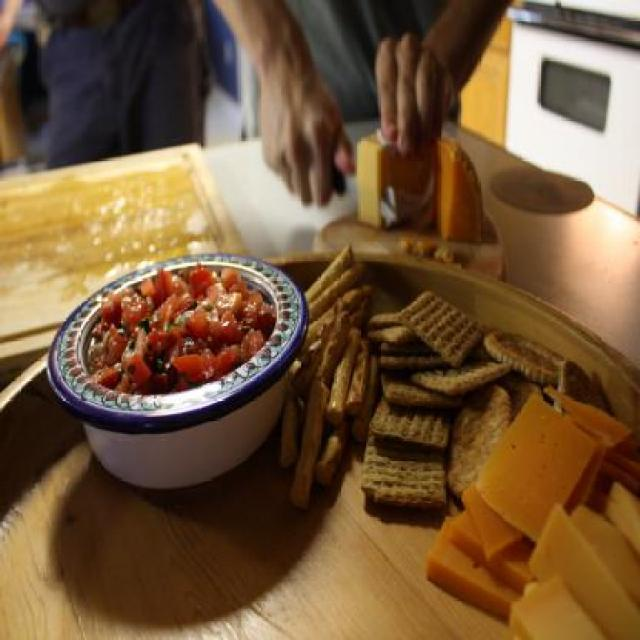Cheese: (423, 383, 639, 620), (504, 476, 640, 639), (352, 129, 486, 243)
